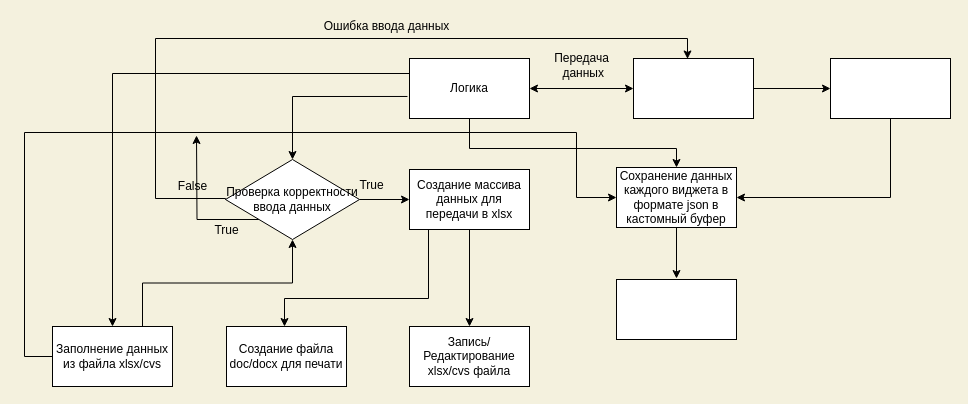
This 968x404 diagram has some shape labels left out. The shapes that lost their labels are listed below. From the top down, each one's centre as x and y in pixels, then its label:
the point at 693,88: UI
the point at 890,88: Получение идентификатора пациента
the point at 676,309: Очистка буфера после сохранения данных о клиенте
